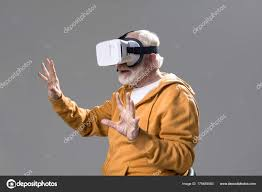oculus: (95, 38, 148, 70)
